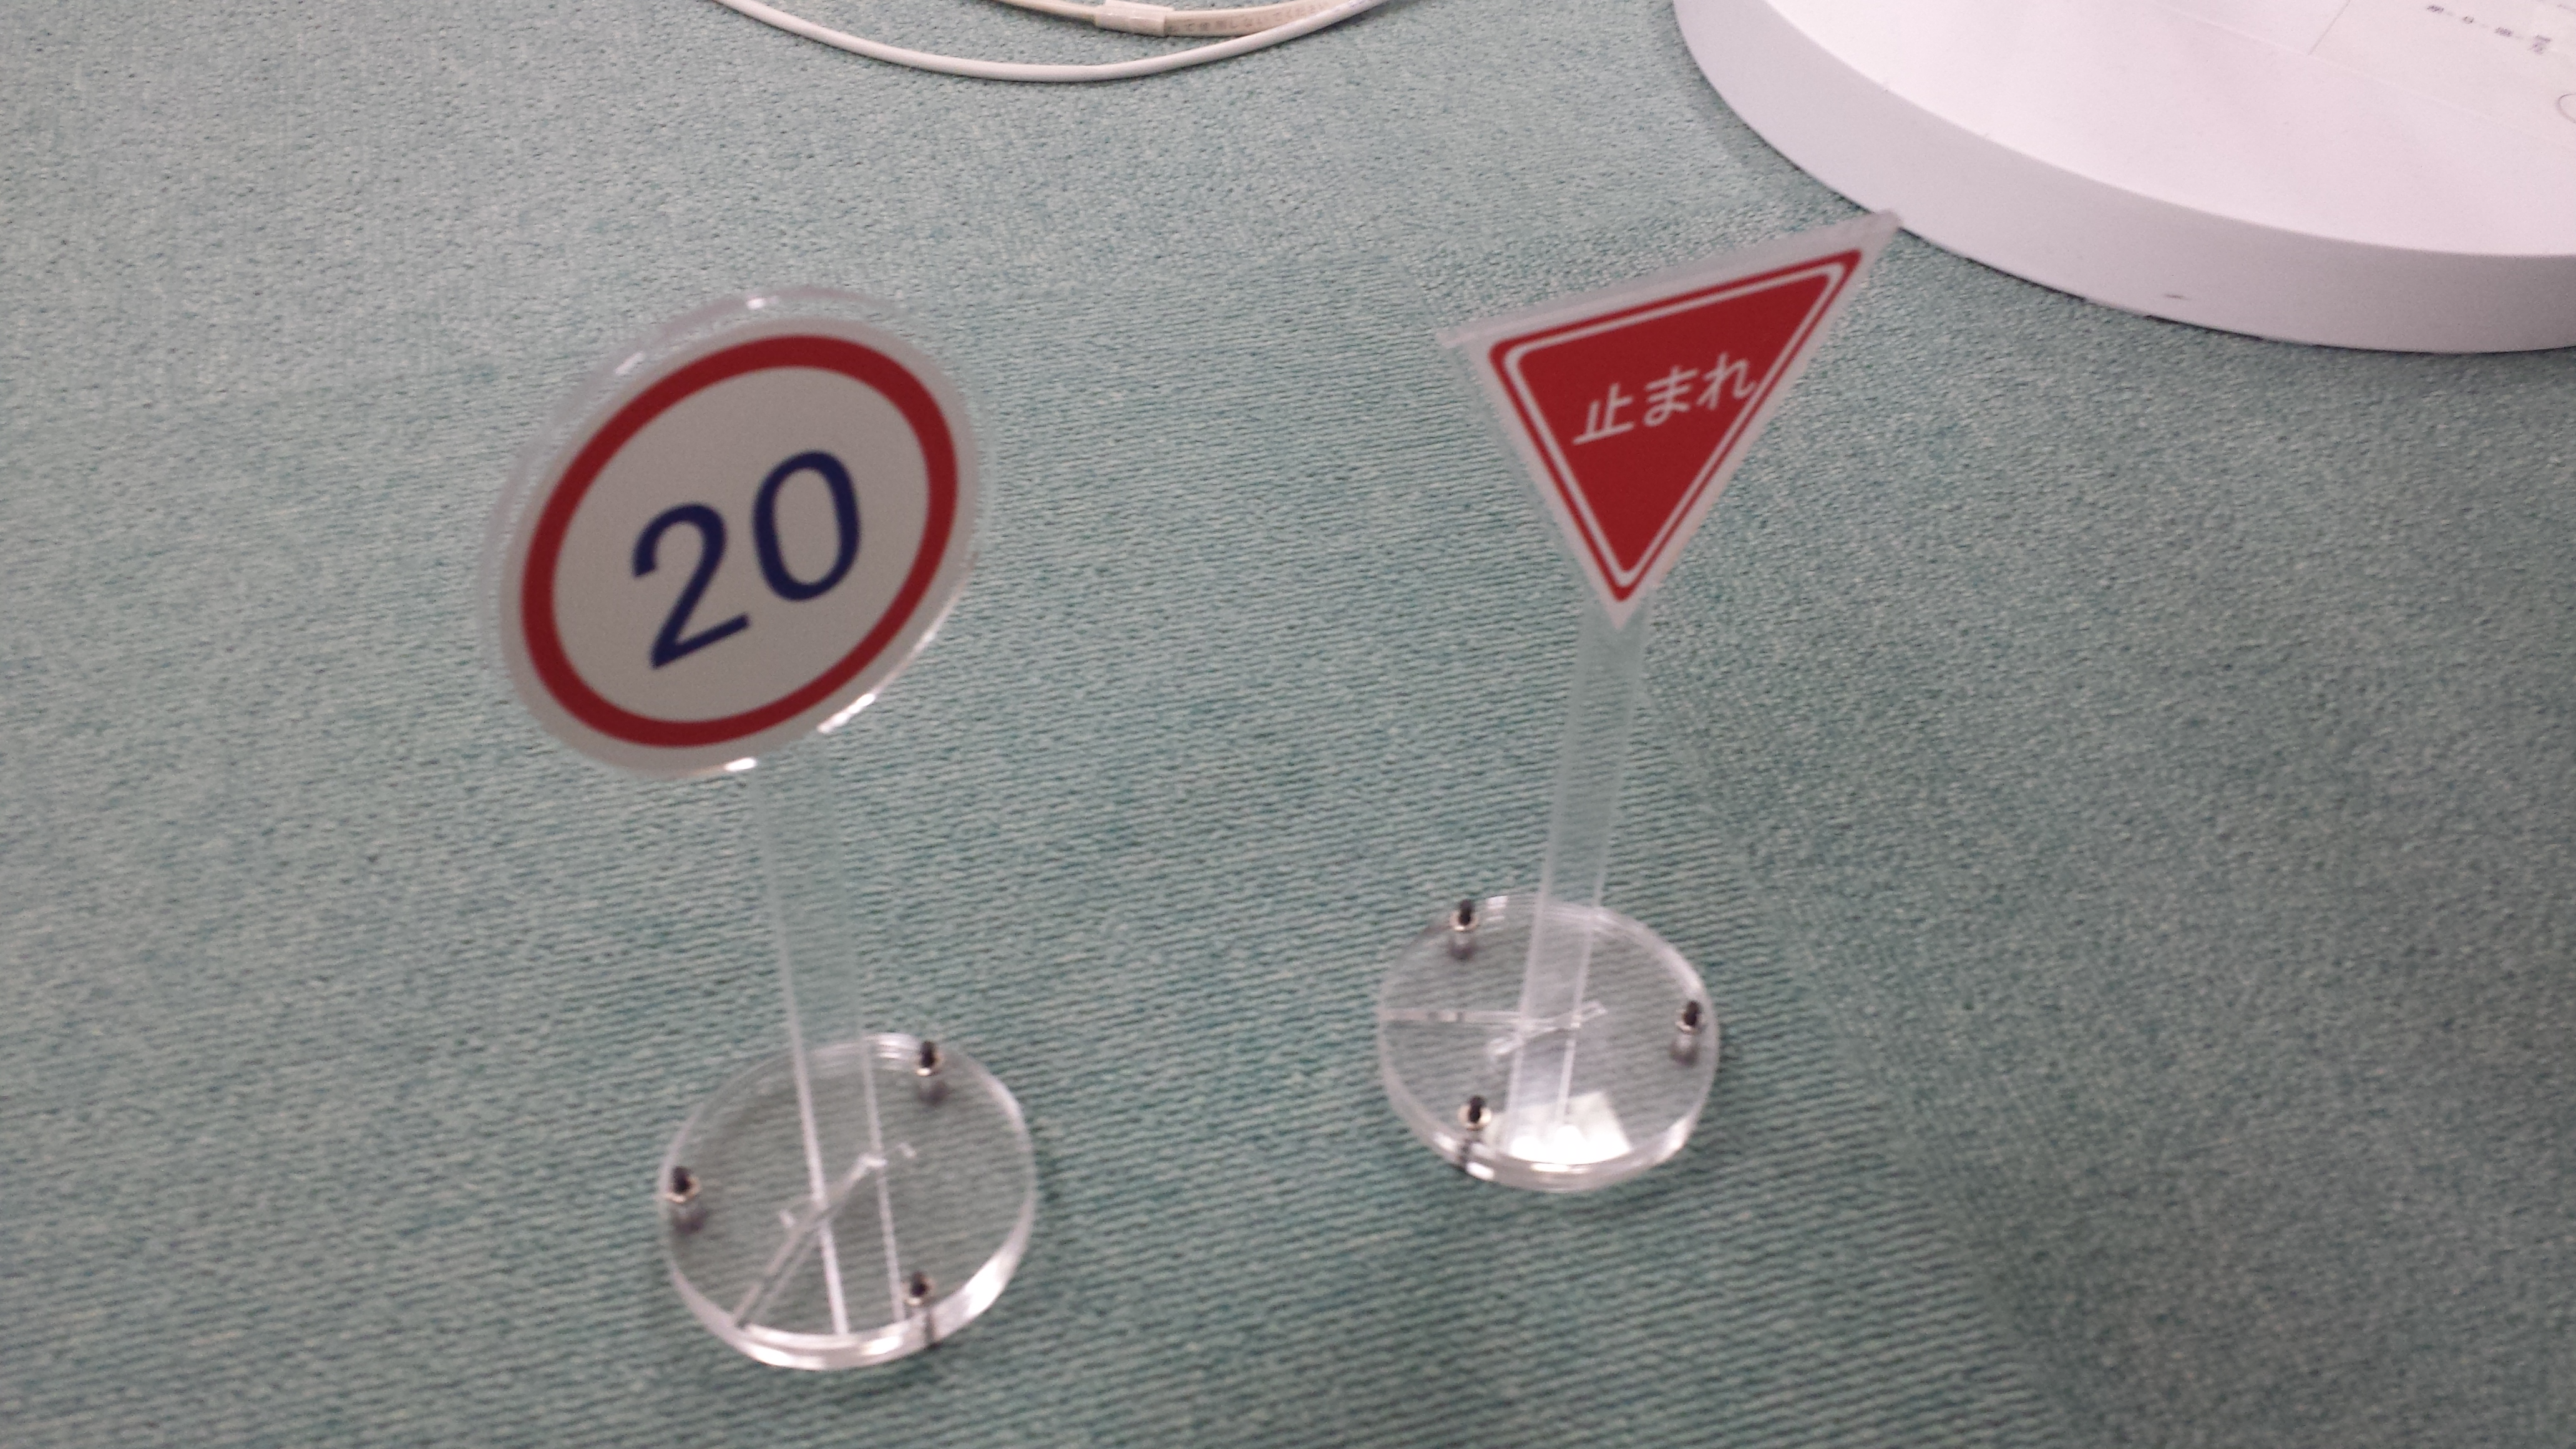speed_20: (487, 294, 982, 775)
stop: (1463, 226, 1891, 616)
